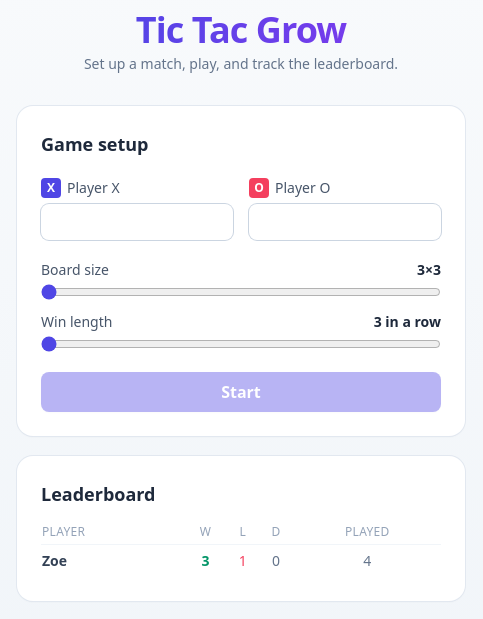
Test: Main — setup gate › enables Start only with two distinct, non-empty names
The image size is (483, 619).
Check: the text "Zoe" is shown, box left=41, top=544, right=184, bottom=577
Check: the button "Start" is disabled, box left=41, top=372, right=441, bottom=412
Type "Ada" into the field named "Player X name" at (137, 222), box left=41, top=204, right=233, bottom=240
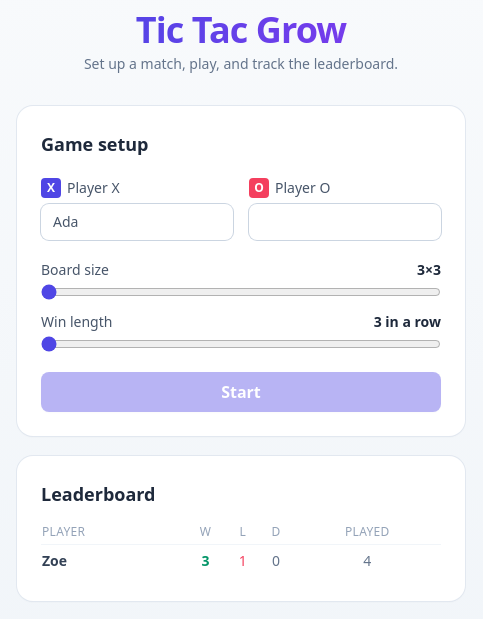
Check: the button "Start" is disabled, box left=41, top=372, right=441, bottom=412
Type "Ada" into the field named "Player O name" at (345, 222), box left=249, top=204, right=441, bottom=240
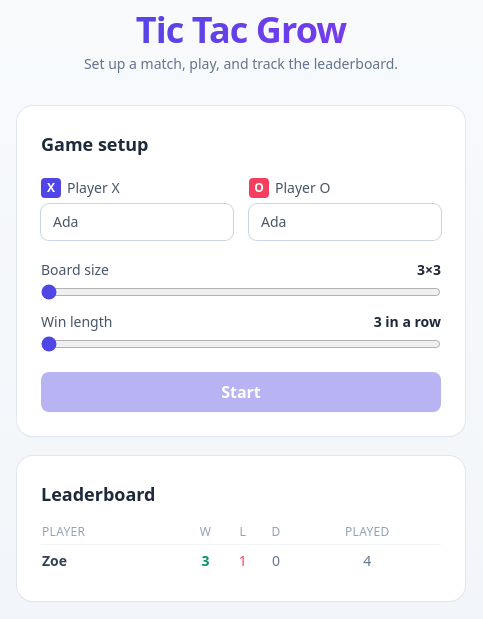
Check: the button "Start" is disabled, box left=41, top=372, right=441, bottom=412
Replace the text in the field named "Player O name" with "Bob" at (345, 222), box left=249, top=204, right=441, bottom=240
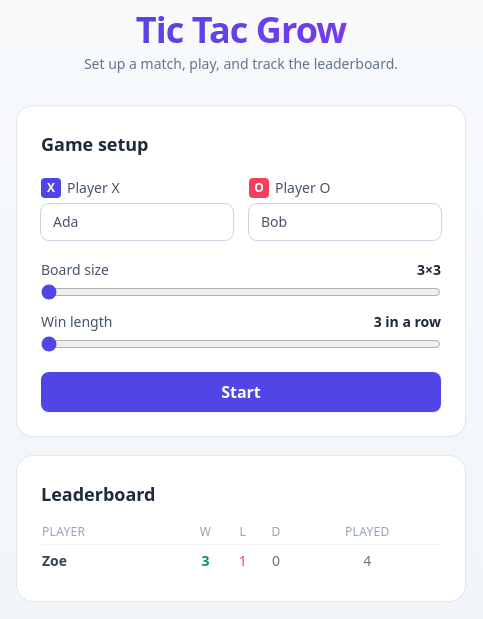
Check: the button "Start" is enabled, box left=41, top=372, right=441, bottom=412
